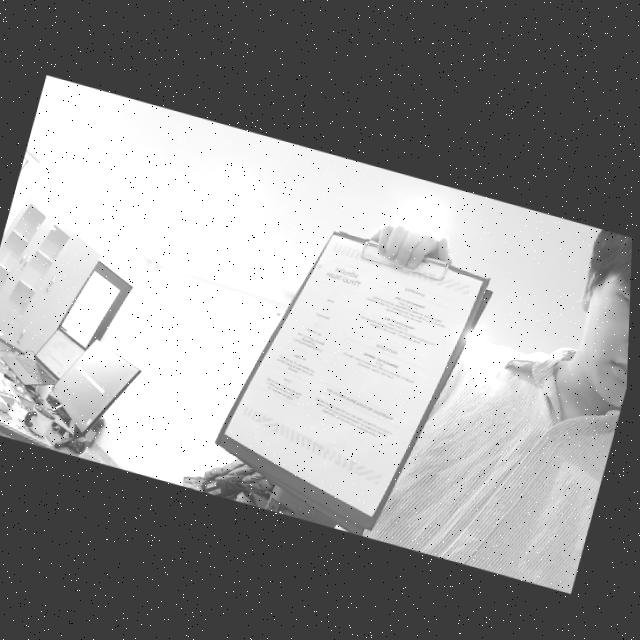document: (224, 235, 483, 517)
